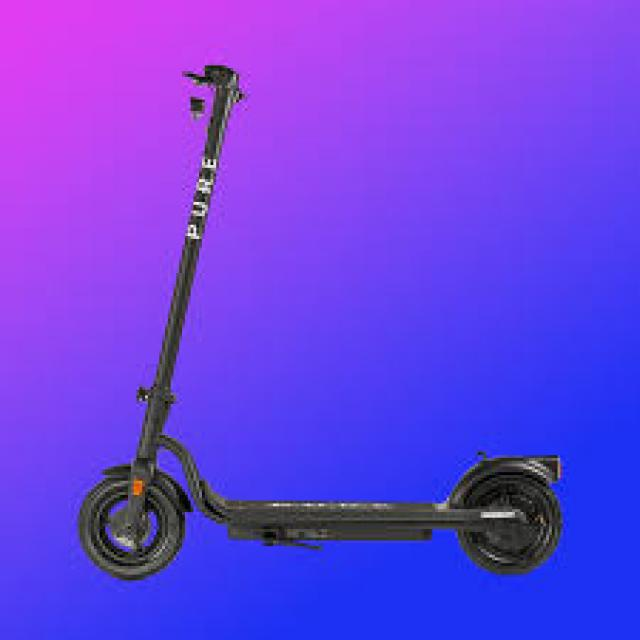bike: (76, 66, 566, 584)
